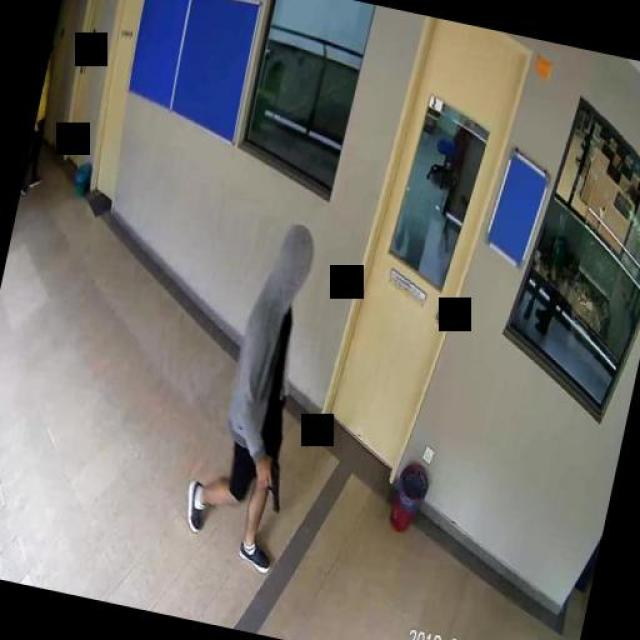gun: (246, 454, 286, 511)
